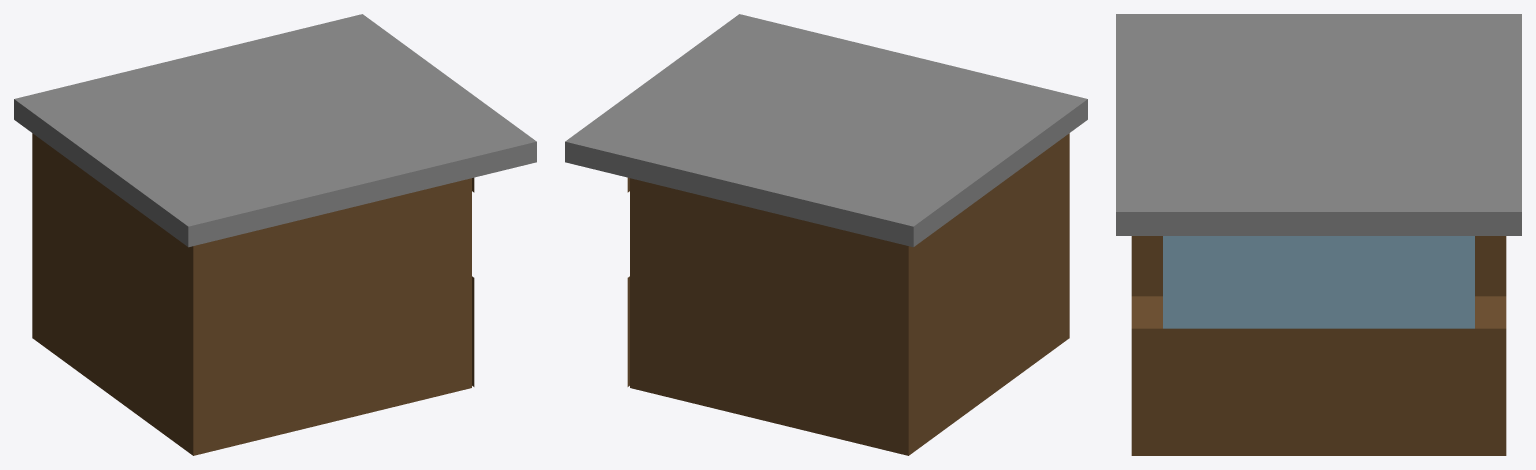
File: souvenir_shop.obj
The picture shows the model from 3 angles, left to right: view 1: azimuth 30°, elevation 25°; view 2: azimuth 150°, elevation 25°; view 3: azimuth 270°, elevation 25°; orthographic projection. The views are drawn at different scales.
Bounding box in the file's own units: 3 × 1.95 × 2.6.
